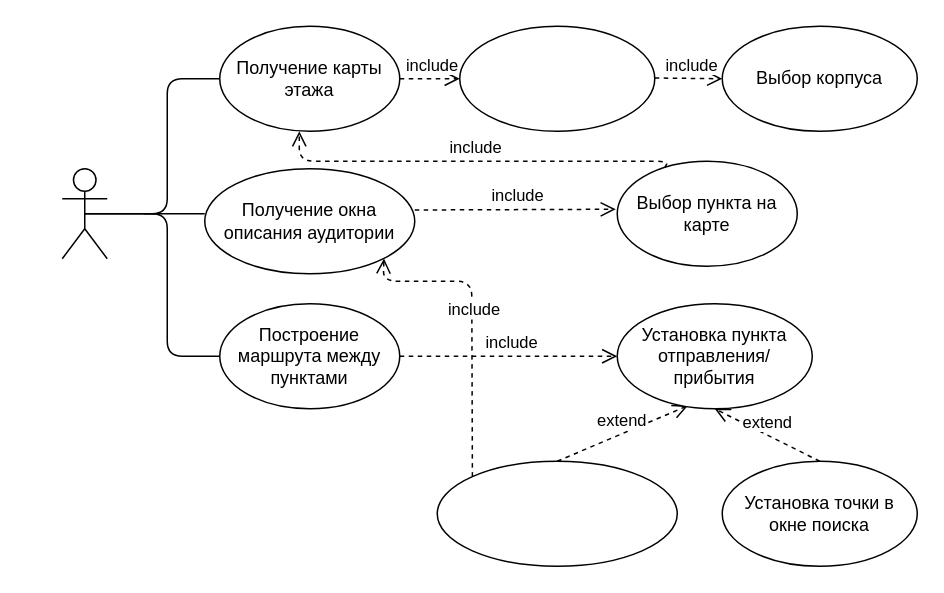
Image size: 944x593. Some labels were removed from this diagram. Here are the shapes that lost their labels. From the top down, the centre of each, then its label:
the point at 556,78: Выбор этажа
the point at 84,213: Пользователь
the point at 556,513: Установка точки из окна описания аудитории
